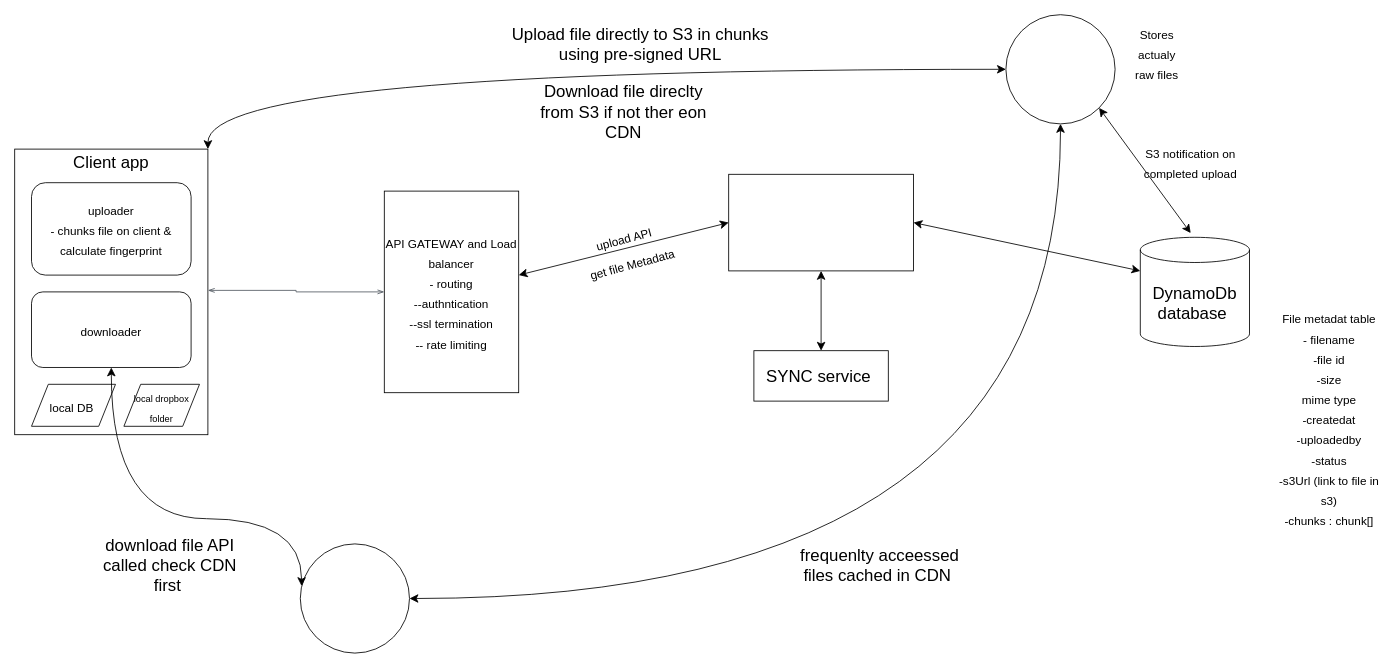
This 1399x668 diagram has some shape labels left out. Each missing label, with the centre of its shape:
"Amazon S3" goes at (x=1060, y=69).
"CDN" goes at (x=354, y=598).
"File service or app backend - generated pre-signed url" goes at (x=821, y=222).
